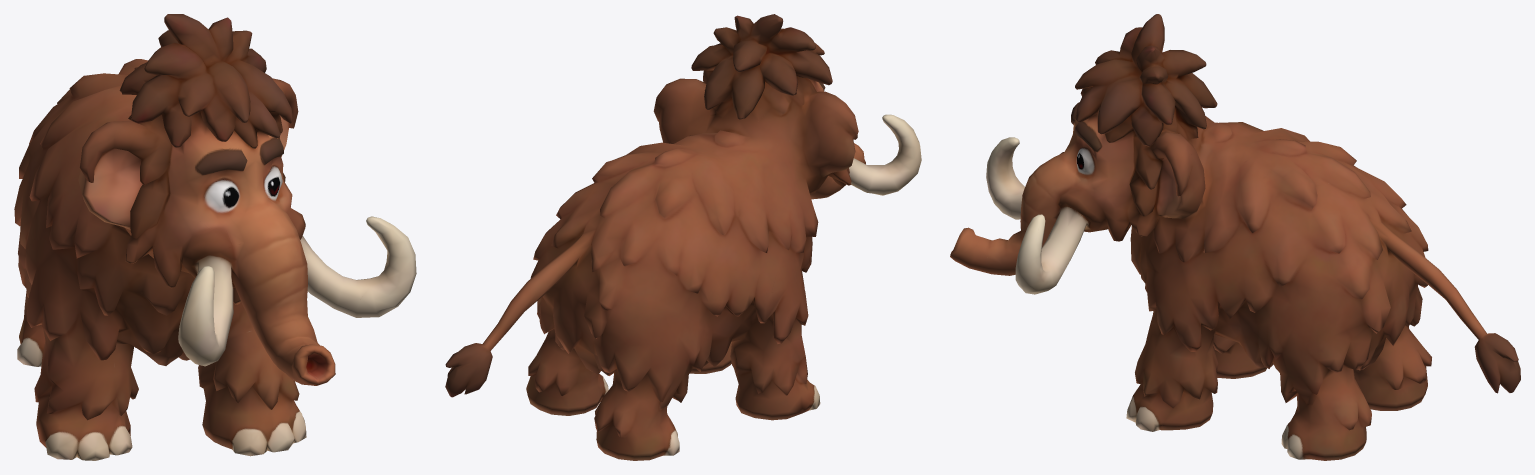
The model's file is mamouth.glb.
The picture shows the model from 3 angles, left to right: view 1: azimuth 30°, elevation 25°; view 2: azimuth 150°, elevation 25°; view 3: azimuth 270°, elevation 25°; orthographic projection. The views are drawn at different scales.
Parts seen in each view (by area): view 1: geometry_0; view 2: geometry_0; view 3: geometry_0.
Boxes of the visible parts, x1,y1,x2,y2 form: geometry_0: (14,14,416,460); geometry_0: (445,14,921,460); geometry_0: (950,14,1520,460).
Size of the model in its own units: 0.4805 by 0.6758 by 0.958.
1 material, 1 textured.
